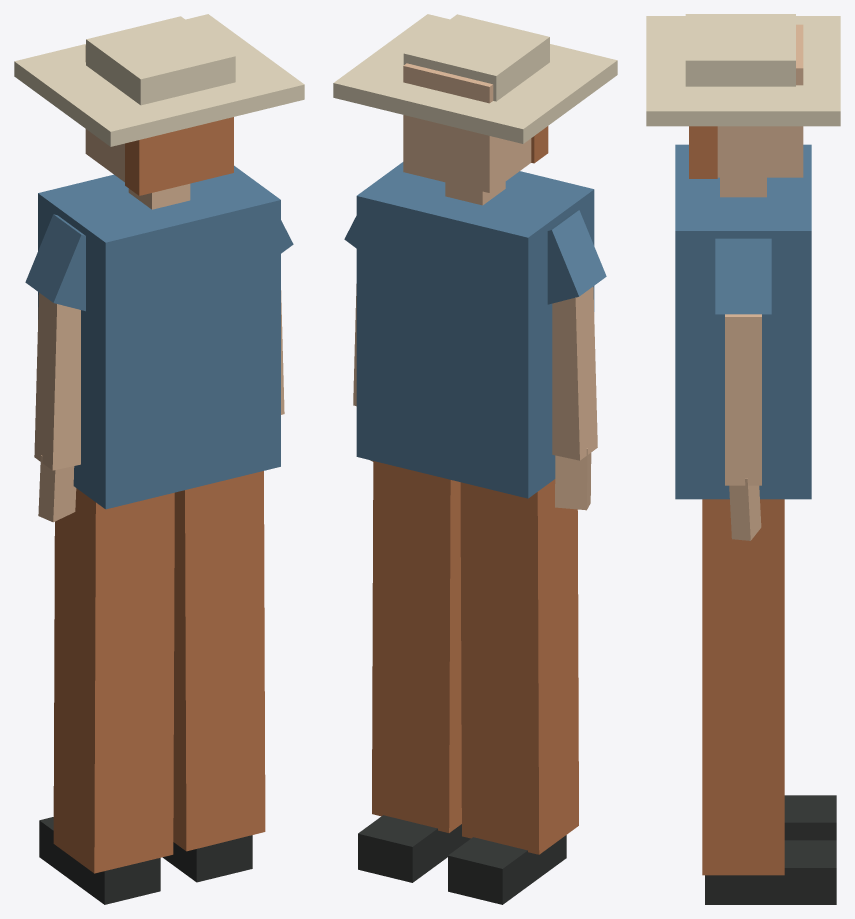
The model's file is pedestrian_12_far.glb.
3 views of the same model, side by side, from view 1: azimuth 30°, elevation 25°; view 2: azimuth 150°, elevation 25°; view 3: azimuth 270°, elevation 25° (orthographic). The views are drawn at different scales.
Parts seen in each view (by area): view 1: pedestrian_12 crowd_trousers.001, pedestrian_12 crowd_shirt.001, pedestrian_12 crowd_accessory.001, pedestrian_12 crowd_rubber.001, pedestrian_12 crowd_skin.001; view 2: pedestrian_12 crowd_trousers.001, pedestrian_12 crowd_shirt.001, pedestrian_12 crowd_accessory.001, pedestrian_12 crowd_skin.001, pedestrian_12 crowd_rubber.001; view 3: pedestrian_12 crowd_shirt.001, pedestrian_12 crowd_trousers.001, pedestrian_12 crowd_accessory.001, pedestrian_12 crowd_skin.001, pedestrian_12 crowd_rubber.001.
Part boxes in pixels (x1,y1,x2,y2): pedestrian_12 crowd_trousers.001: (53, 471, 265, 873); pedestrian_12 crowd_shirt.001: (25, 165, 293, 509); pedestrian_12 crowd_accessory.001: (14, 14, 304, 146); pedestrian_12 crowd_rubber.001: (39, 117, 252, 904); pedestrian_12 crowd_skin.001: (34, 45, 284, 522); pedestrian_12 crowd_trousers.001: (372, 461, 578, 854); pedestrian_12 crowd_shirt.001: (344, 162, 606, 498); pedestrian_12 crowd_accessory.001: (333, 14, 617, 143); pedestrian_12 crowd_skin.001: (353, 63, 597, 510); pedestrian_12 crowd_rubber.001: (358, 126, 566, 904); pedestrian_12 crowd_shirt.001: (675, 144, 811, 499); pedestrian_12 crowd_trousers.001: (702, 499, 784, 875); pedestrian_12 crowd_accessory.001: (646, 14, 840, 126); pedestrian_12 crowd_skin.001: (717, 24, 803, 540); pedestrian_12 crowd_rubber.001: (689, 126, 836, 904).
Bounding box in the file's own units: 0.5004 × 1.64 × 0.3478.
